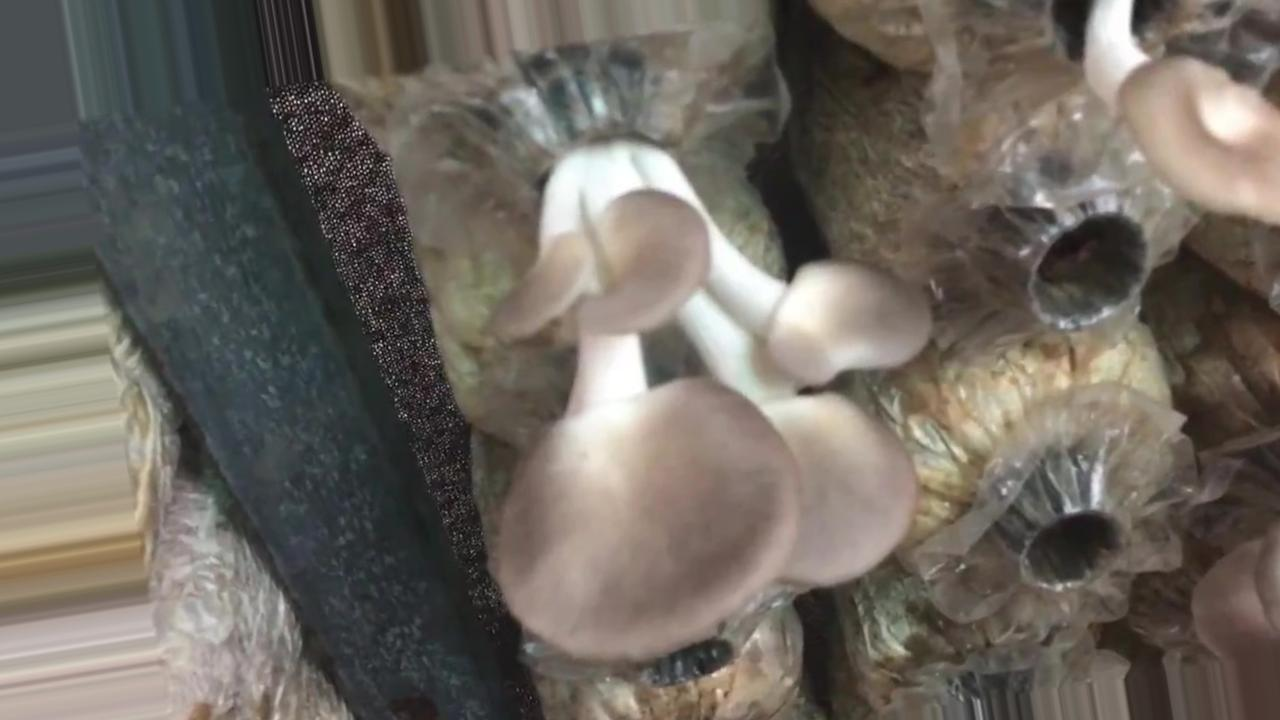nam: (489, 66, 928, 660), (1066, 1, 1280, 224)
